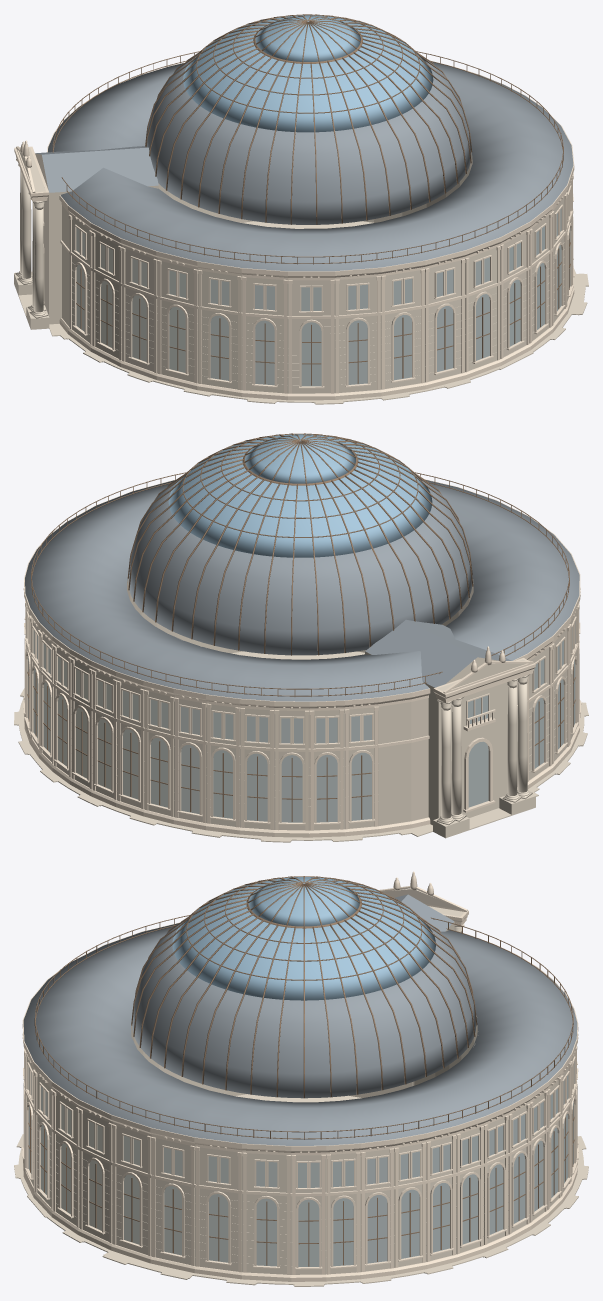
Rendered from detail.glb.
The picture shows the model from 3 angles, top to bottom: view 1: azimuth 30°, elevation 25°; view 2: azimuth 150°, elevation 25°; view 3: azimuth 270°, elevation 25°; orthographic projection. The views are drawn at different scales.
Parts seen in each view (by area): view 1: roof, stone, trim, glass, metal, window; view 2: roof, trim, stone, glass, window, metal; view 3: roof, trim, stone, window, glass, metal.
Part boxes in pixels (left/top/right/bottom): roof: left=36, top=58, right=573, bottom=271; stone: left=14, top=148, right=588, bottom=404; trim: left=14, top=62, right=574, bottom=400; glass: left=183, top=15, right=433, bottom=132; metal: left=52, top=14, right=570, bottom=385; window: left=76, top=208, right=570, bottom=386; roof: left=25, top=480, right=579, bottom=701; trim: left=23, top=479, right=581, bottom=837; stone: left=14, top=579, right=588, bottom=842; glass: left=168, top=434, right=432, bottom=557; window: left=28, top=622, right=575, bottom=822; metal: left=27, top=433, right=575, bottom=821; roof: left=23, top=894, right=577, bottom=1145; trim: left=22, top=871, right=578, bottom=1281; stone: left=14, top=889, right=588, bottom=1286; window: left=28, top=1062, right=574, bottom=1266; glass: left=172, top=877, right=435, bottom=1000; metal: left=28, top=876, right=574, bottom=1266.
Bounding box in the file's own units: 69.27 × 36.3 × 67.18.
